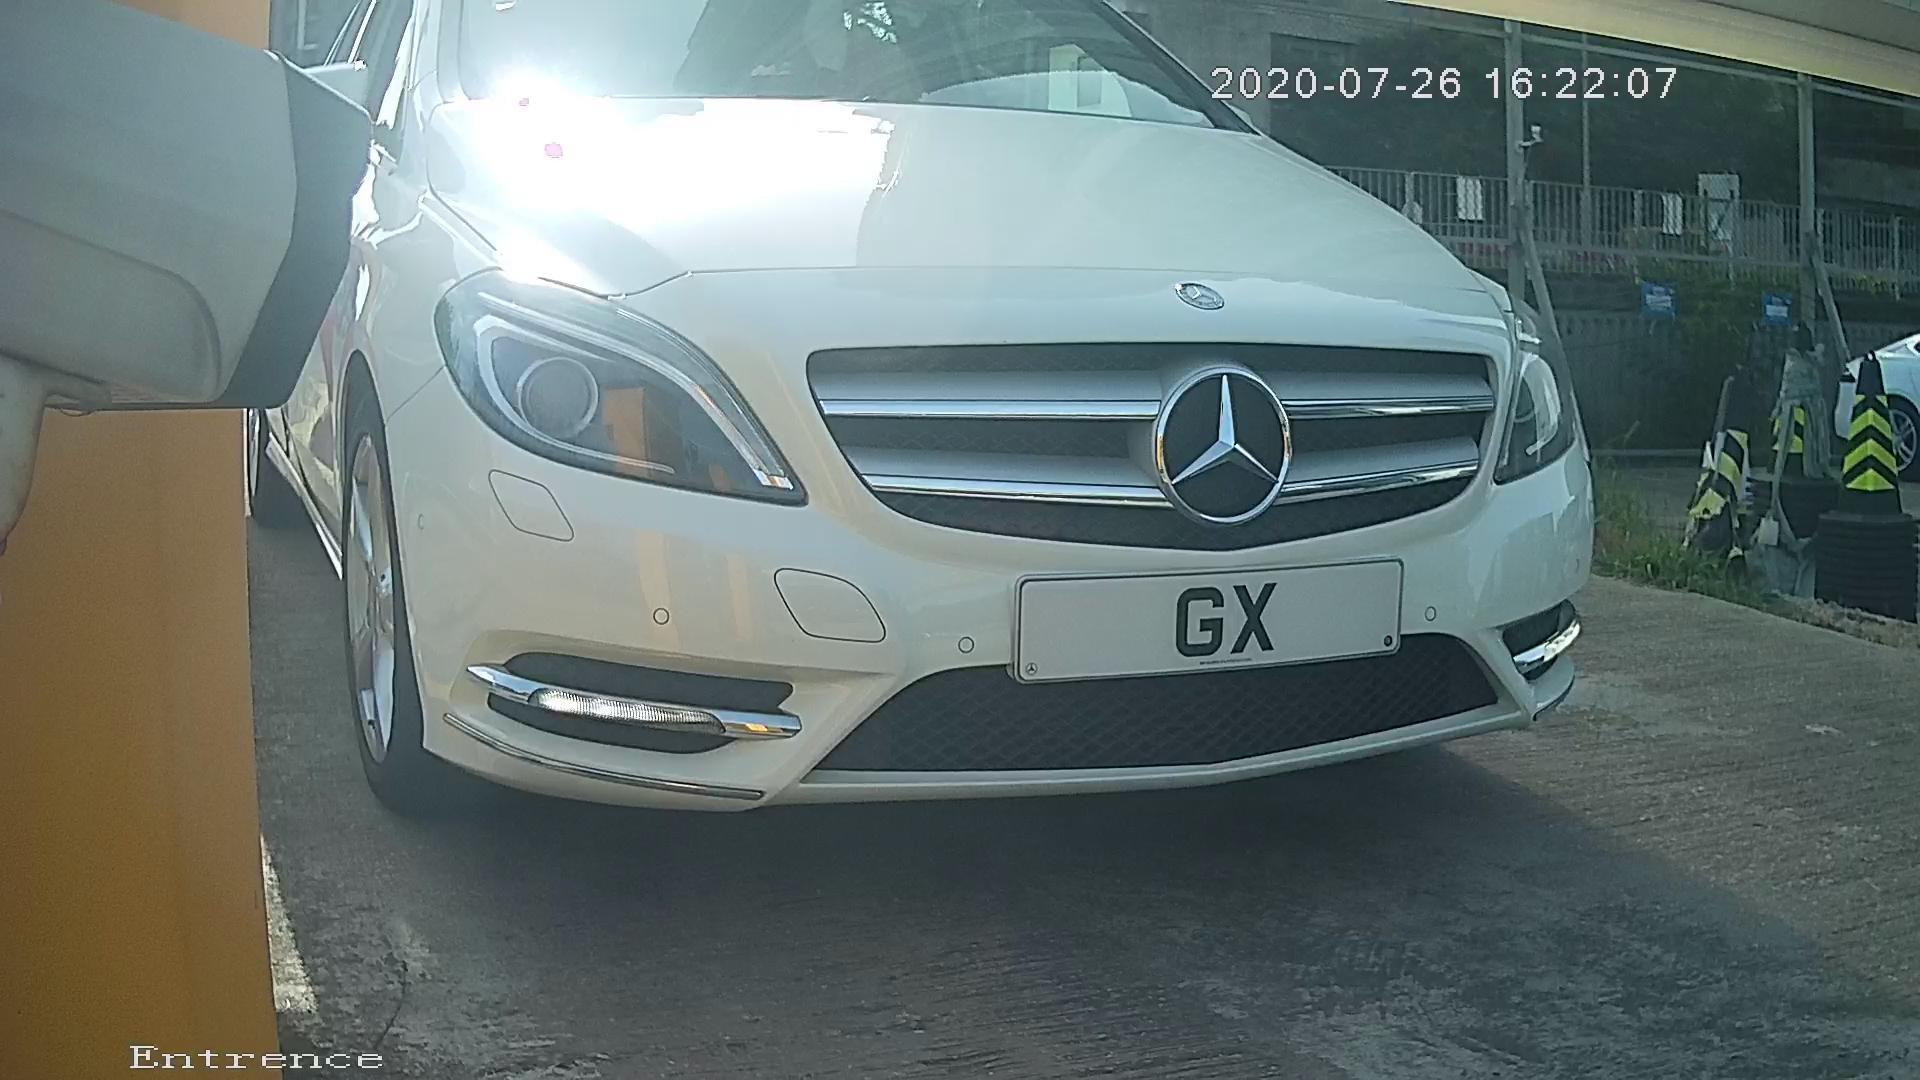privatecar: (266, 15, 1749, 878)
